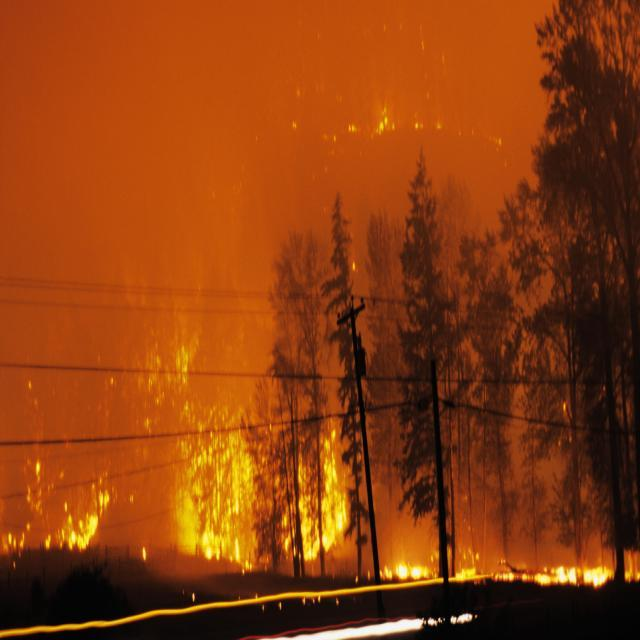Fire: (176, 408, 259, 556), (287, 447, 367, 572), (62, 496, 113, 568), (544, 558, 610, 604), (149, 342, 196, 402), (392, 552, 434, 609), (7, 520, 34, 552), (378, 102, 399, 138)
Smoke: (5, 0, 640, 524)
